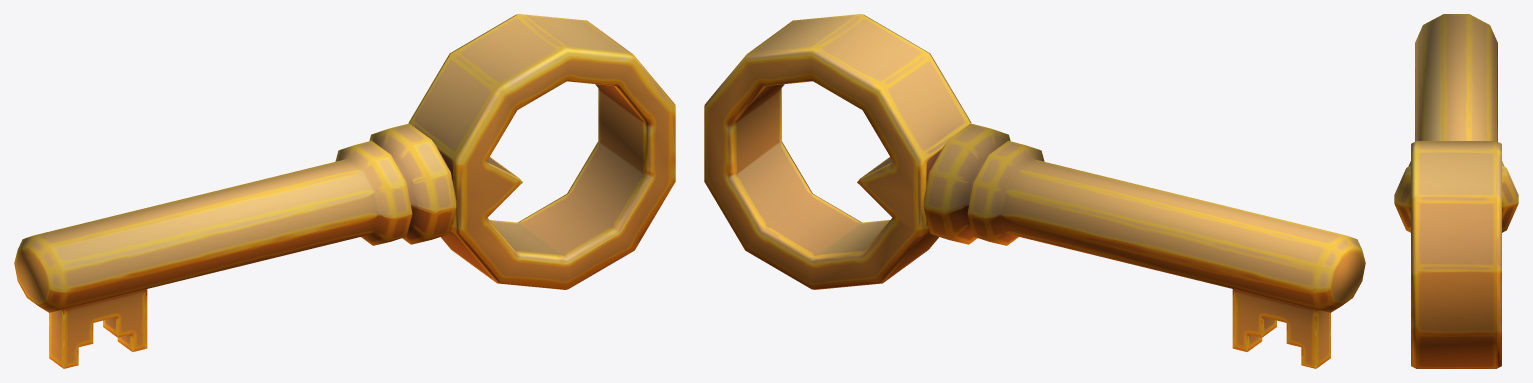
The model's file is key.fbx.
The picture shows the model from 3 angles, left to right: view 1: azimuth 30°, elevation 25°; view 2: azimuth 150°, elevation 25°; view 3: azimuth 270°, elevation 25°; orthographic projection. The views are drawn at different scales.
Parts seen in each view (by area): view 1: Cylinder.010; view 2: Cylinder.010; view 3: Cylinder.010.
Part boxes in pixels (<box>): Cylinder.010: <box>14,14,675,368</box>; Cylinder.010: <box>704,14,1365,368</box>; Cylinder.010: <box>1394,14,1518,368</box>.
Bounding box in the file's own units: 457 × 171 × 91.56.
